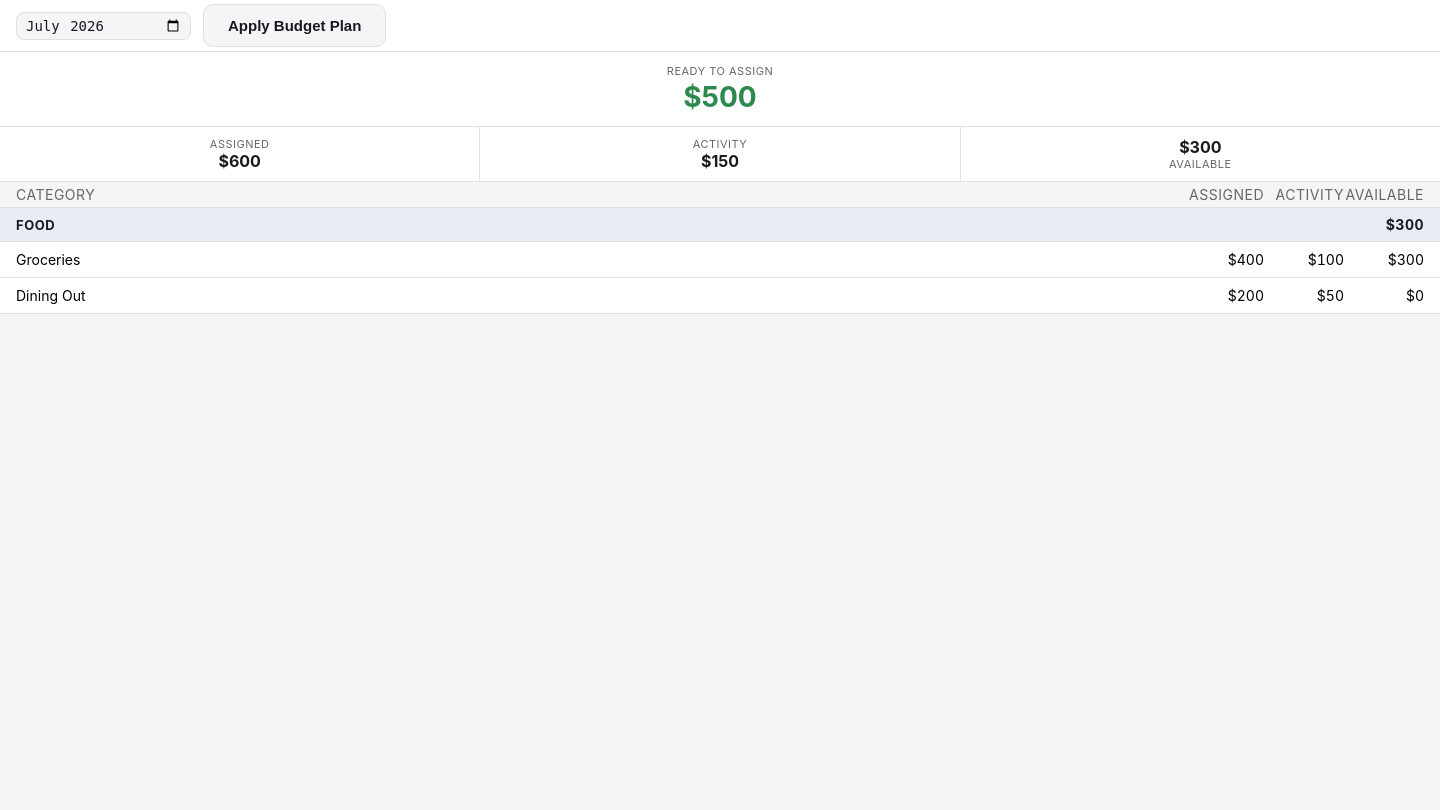
Test: Plan screen — move money › picker shows empty state when no categories have available funds
Click the button "Groceries $400 $100 $300".
click(48, 260)  # box [0, 242, 1439, 278]
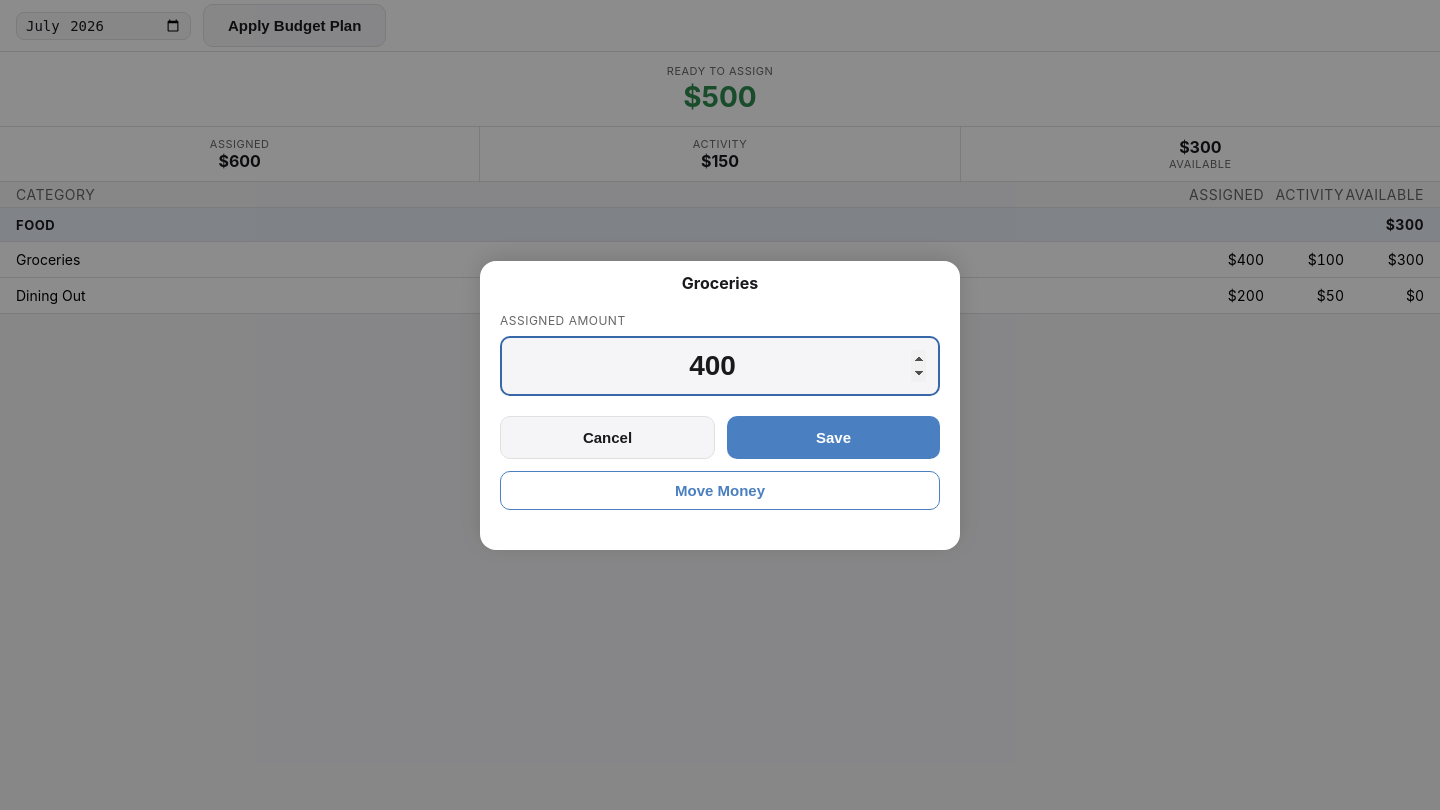
Click the button "Move Money".
click(720, 490)  # box [500, 470, 940, 510]
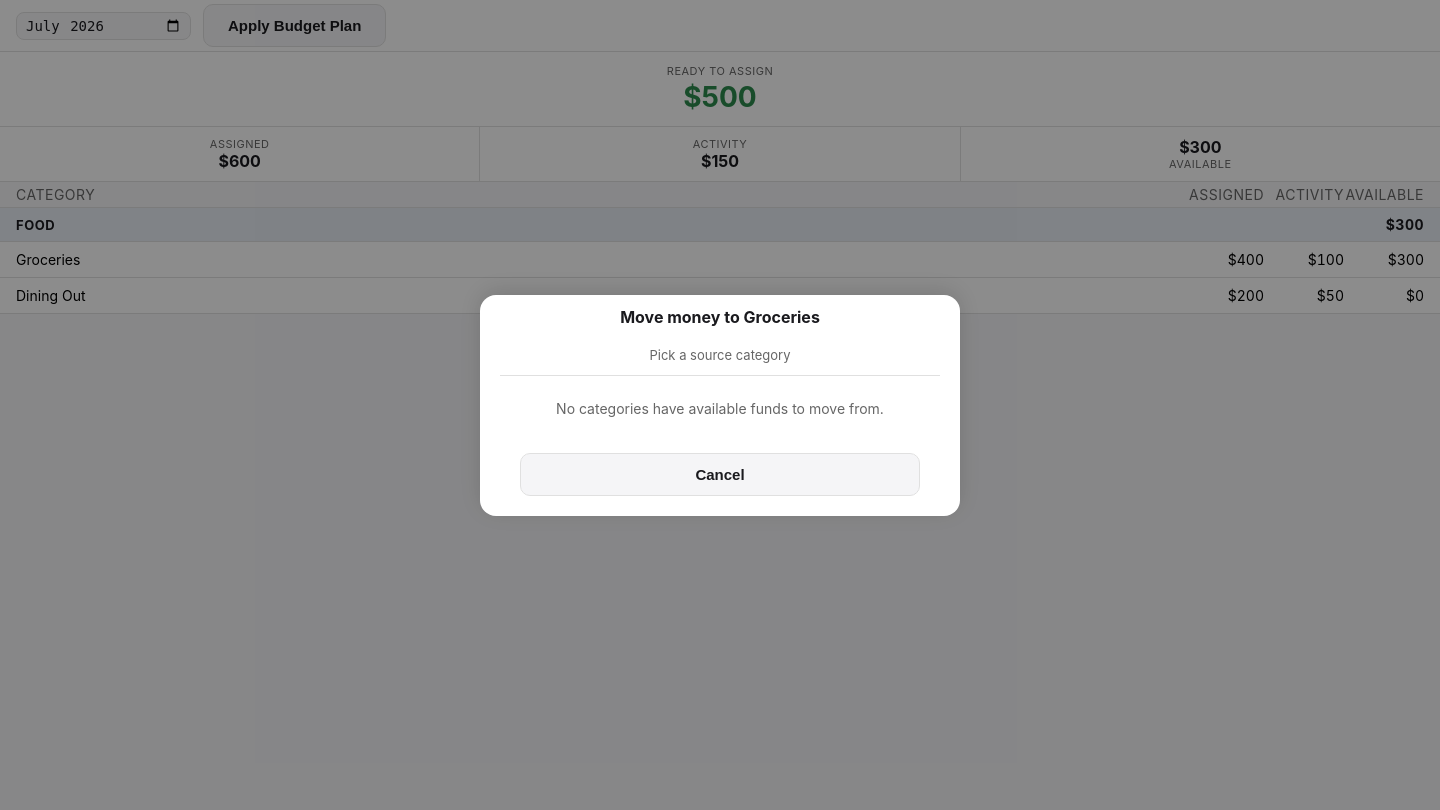
Now the text "No categories have available funds to move from." is shown, box [556, 400, 884, 416]
